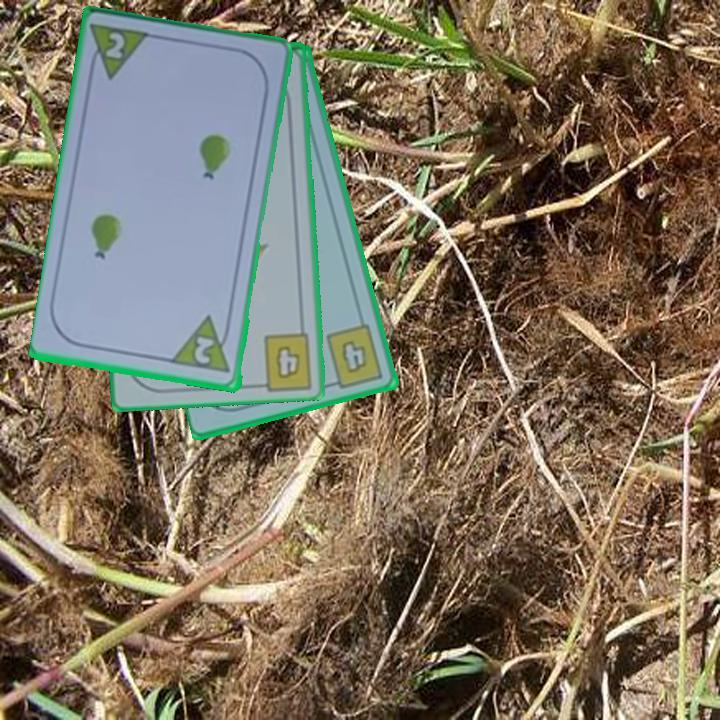2p: (85, 20, 155, 84), (170, 313, 235, 377)
4b: (323, 320, 386, 391), (272, 343, 304, 382)
